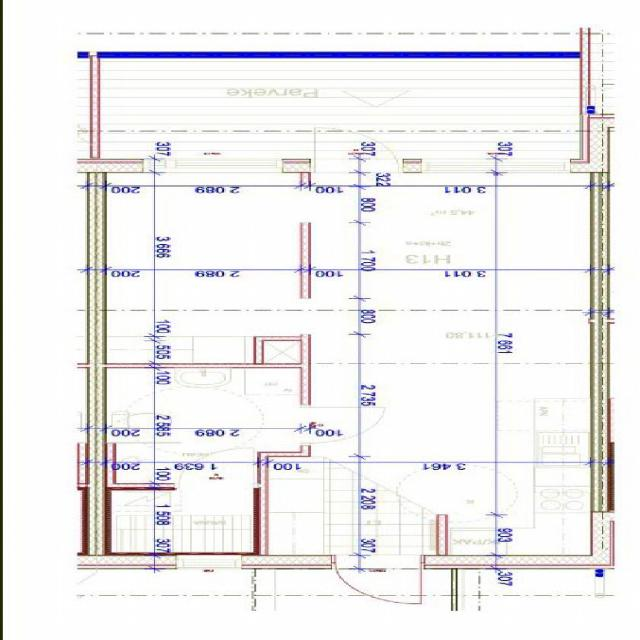door: (336, 555, 420, 609), (314, 119, 396, 172), (300, 407, 384, 443), (179, 448, 252, 488)
